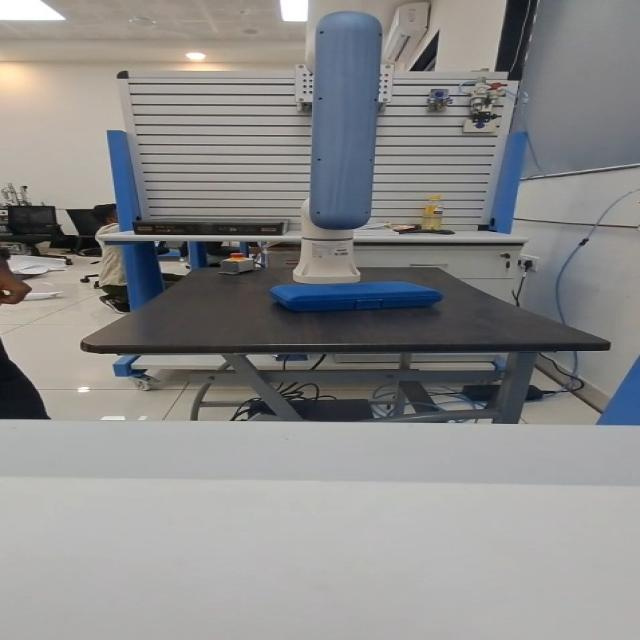top-surface: (293, 284, 420, 294)
